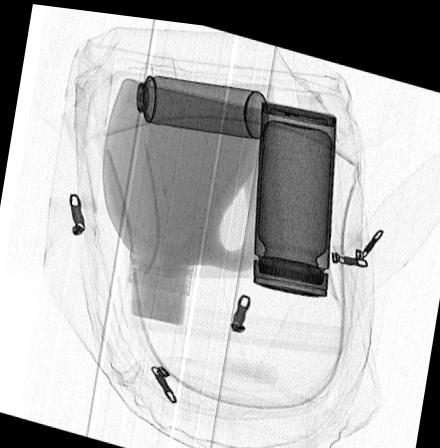Sprayer: (110, 66, 269, 131)
